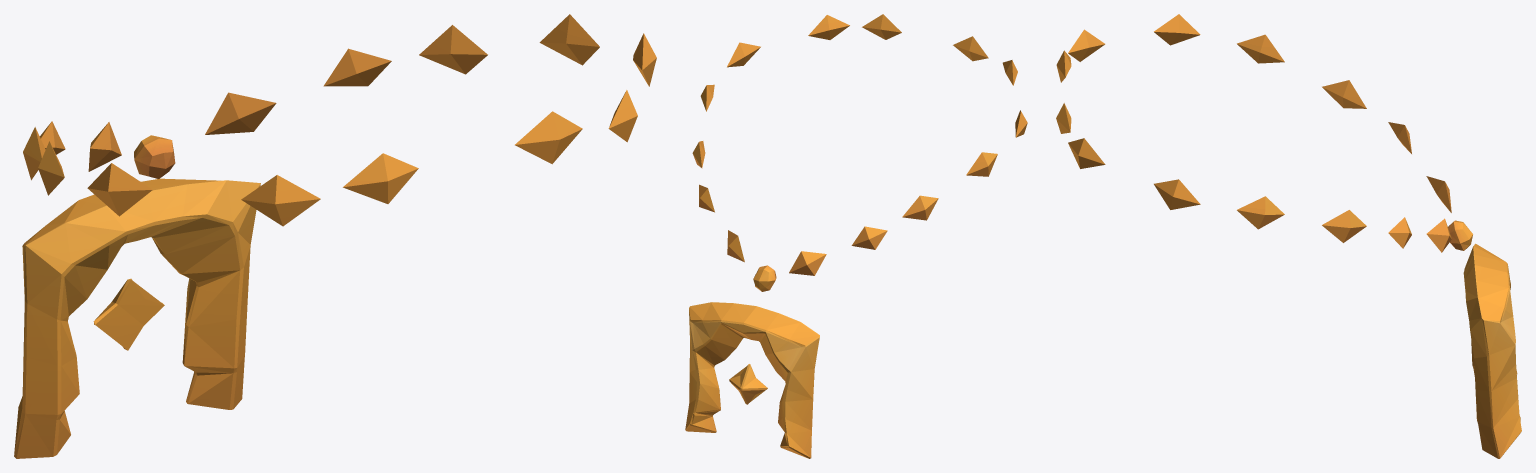
The model's file is CharSkyKid_Neck_AP14Pendant.glb.
3 renders of one model, left to right at view 1: azimuth 30°, elevation 25°; view 2: azimuth 150°, elevation 25°; view 3: azimuth 270°, elevation 25°, orthographic. The views are drawn at different scales.
Visible parts, largest first — view 1: CharSkyKid_Neck_AP14Pendant; view 2: CharSkyKid_Neck_AP14Pendant; view 3: CharSkyKid_Neck_AP14Pendant.
Part boxes in pixels (x1=…): CharSkyKid_Neck_AP14Pendant: x1=14, y1=14, x2=656, y2=458; CharSkyKid_Neck_AP14Pendant: x1=685, y1=14, x2=1027, y2=458; CharSkyKid_Neck_AP14Pendant: x1=1056, y1=14, x2=1521, y2=458.
Size of the model in its own units: 1.79 by 1.69 by 2.06.
1 material, 1 textured.
